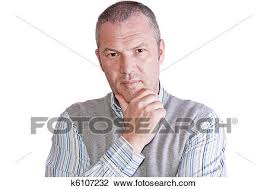white_male: (92, 21, 171, 105)
